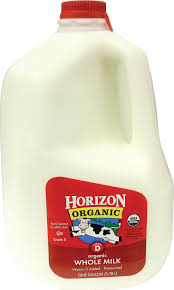milk: (4, 1, 173, 285)
